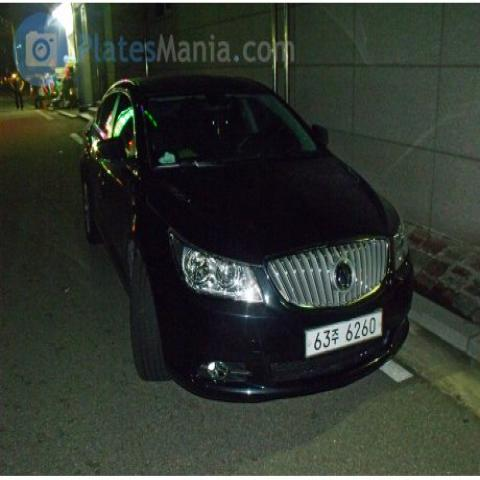LP: (302, 304, 387, 366)
